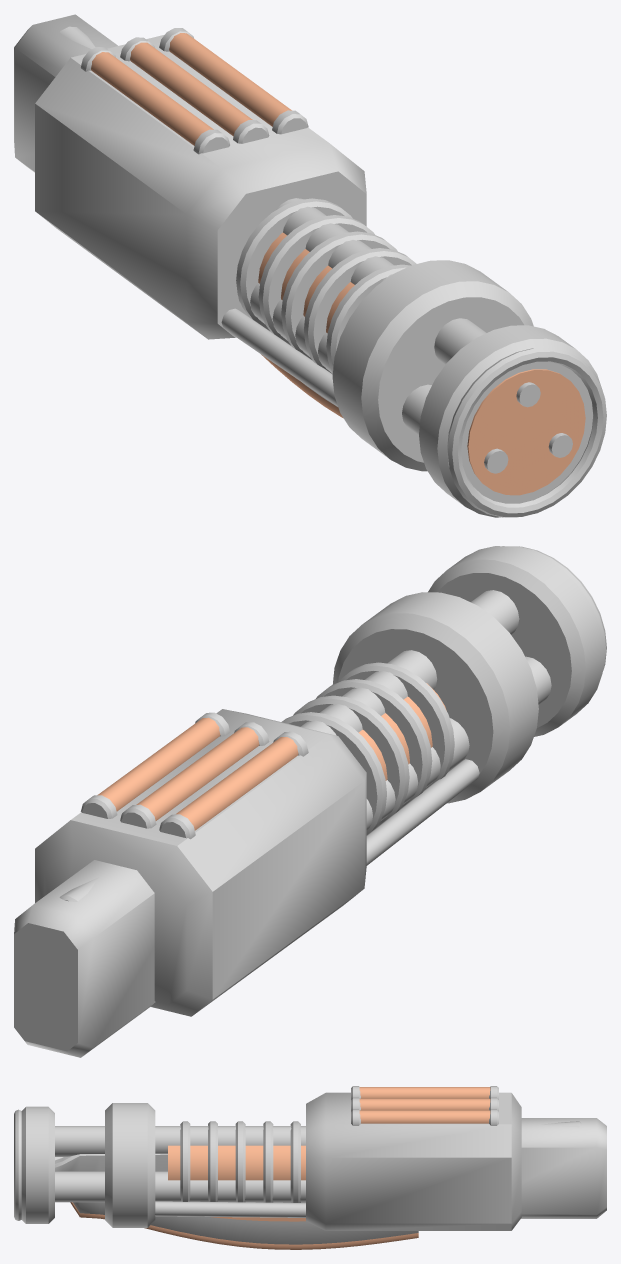
The model's file is guardian_weapons.fbx.
3 renders of one model, top to bottom at view 1: azimuth 30°, elevation 25°; view 2: azimuth 150°, elevation 25°; view 3: azimuth 270°, elevation 25°, orthographic. The views are drawn at different scales.
Visible parts, largest first — view 1: guardian_cannon, guardian_blade_mount; view 2: guardian_cannon, guardian_blade_mount; view 3: guardian_cannon, guardian_blade_mount, guardian_blade.
Part boxes in pixels (bbox=[...]): guardian_cannon: bbox=[35, 28, 606, 517]; guardian_blade_mount: bbox=[14, 14, 117, 172]; guardian_cannon: bbox=[35, 546, 606, 1016]; guardian_blade_mount: bbox=[14, 860, 155, 1057]; guardian_cannon: bbox=[14, 1086, 521, 1230]; guardian_blade_mount: bbox=[521, 1118, 606, 1218]; guardian_blade: bbox=[55, 1153, 418, 1249].
Bounding box in the file's own units: 0.5 × 0.6505 × 2.36.
